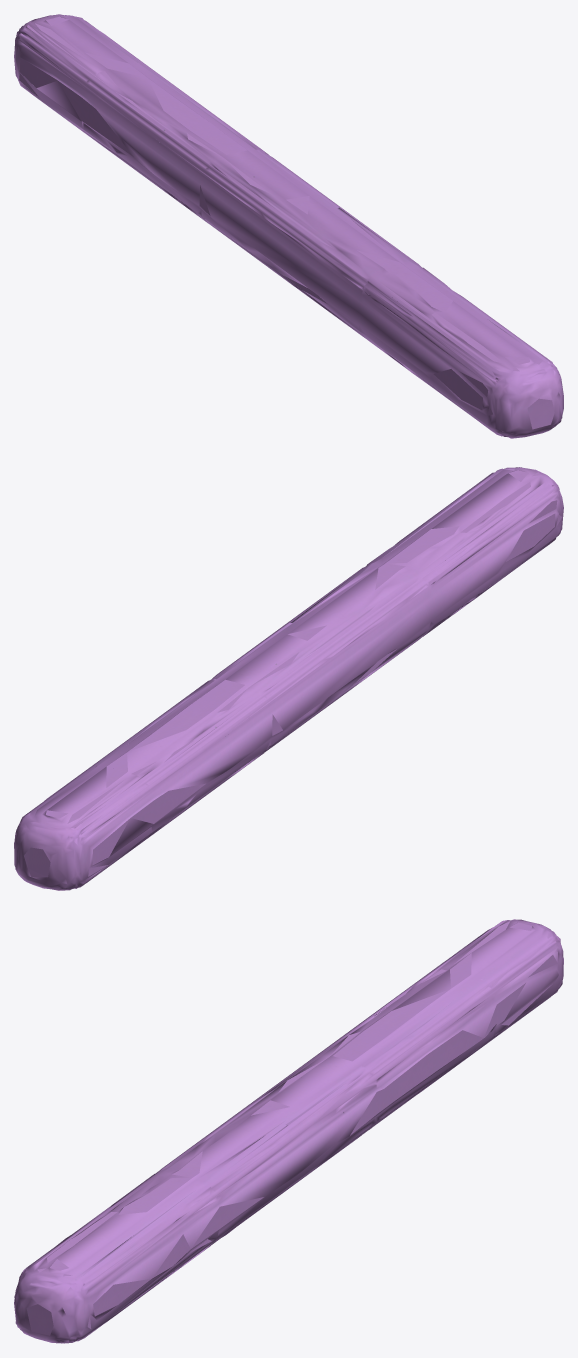
File: PA1Rail.fbx
The picture shows the model from 3 angles, top to bottom: view 1: azimuth 30°, elevation 25°; view 2: azimuth 150°, elevation 25°; view 3: azimuth 330°, elevation 25°; orthographic projection.
Visible parts, largest first — view 1: PA1Rail; view 2: PA1Rail; view 3: PA1Rail.
Boxes of the visible parts, x1,y1,x2,y2 form: PA1Rail: (14, 14, 563, 438); PA1Rail: (14, 467, 563, 890); PA1Rail: (14, 919, 563, 1343).
Bounding box in the file's own units: 10.01 × 9.11 × 119.
1 material, 1 textured.
